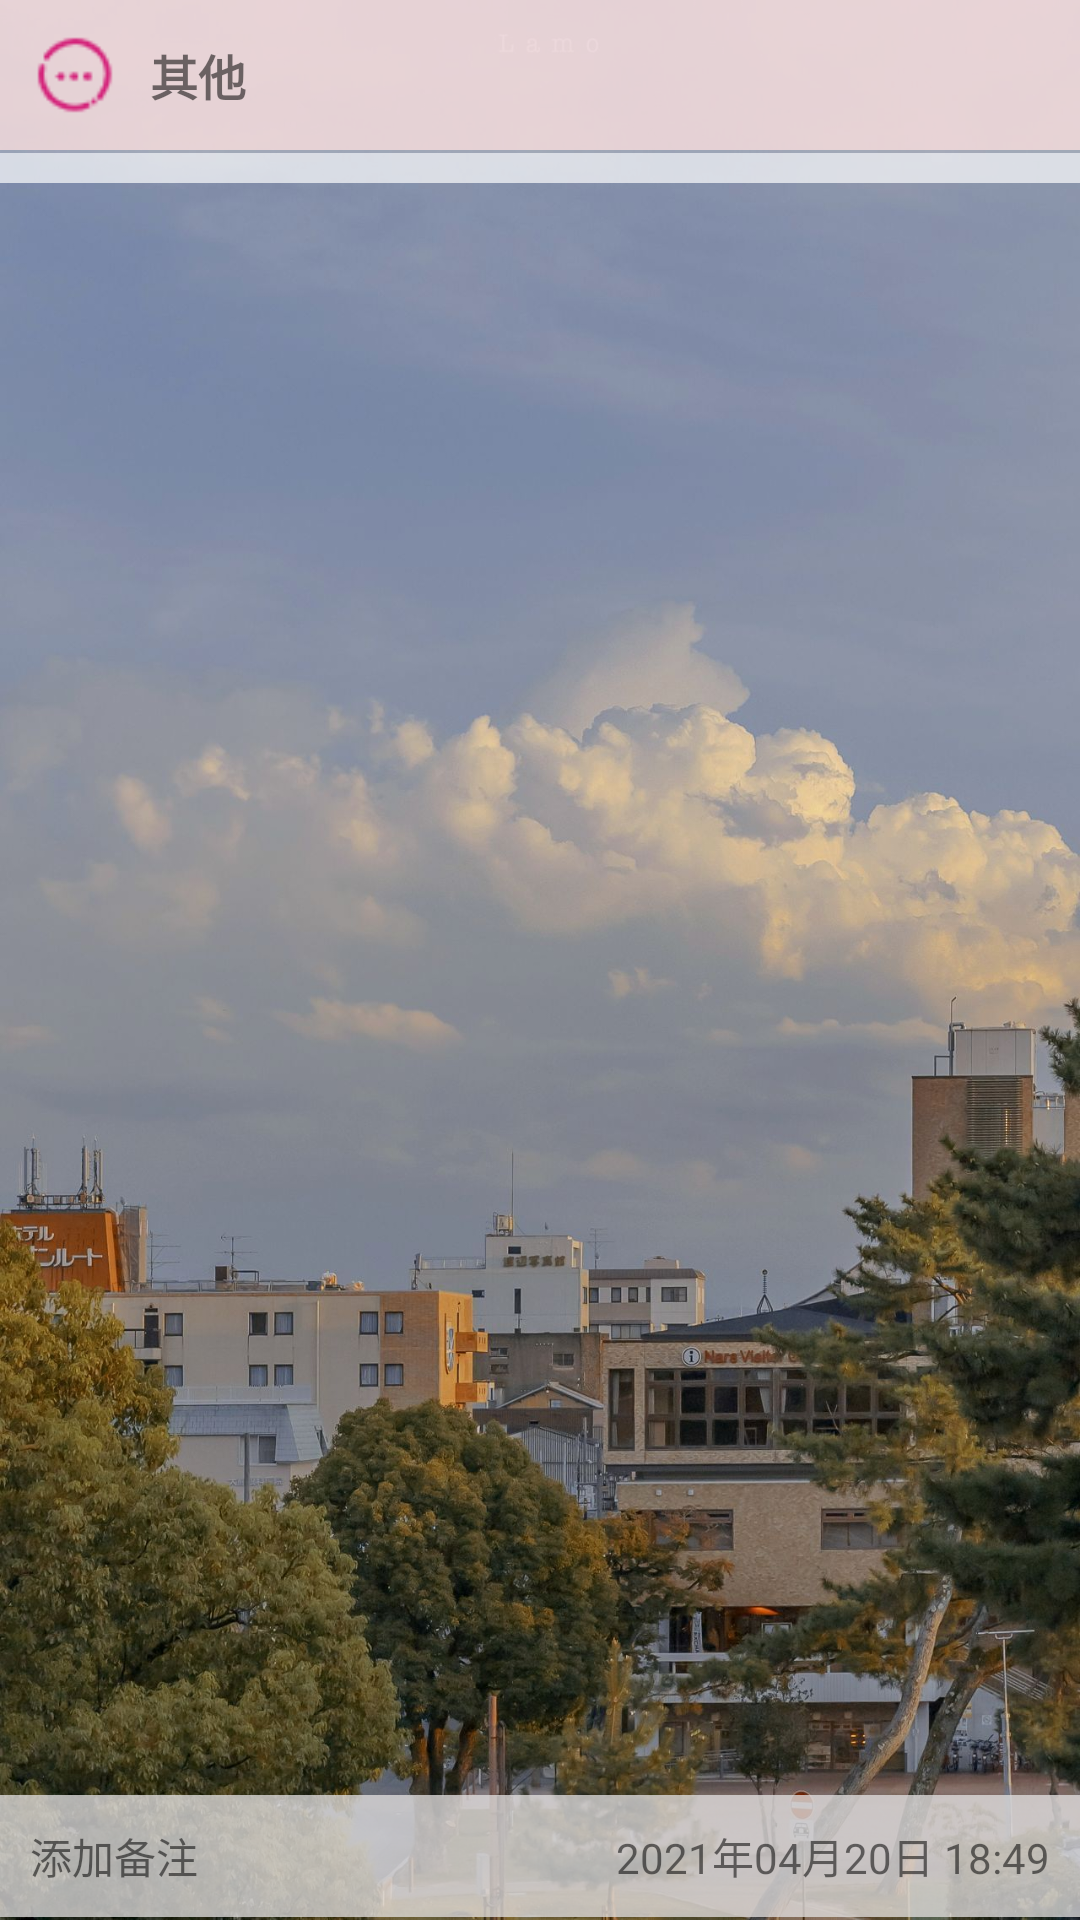

Where icons sit on this 1080 x 1920 app screen, as (x1, y1, x2, y2):
qita fs: (37, 37, 112, 112)
